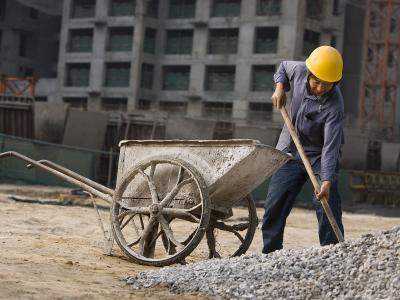helmet: (302, 38, 347, 99)
